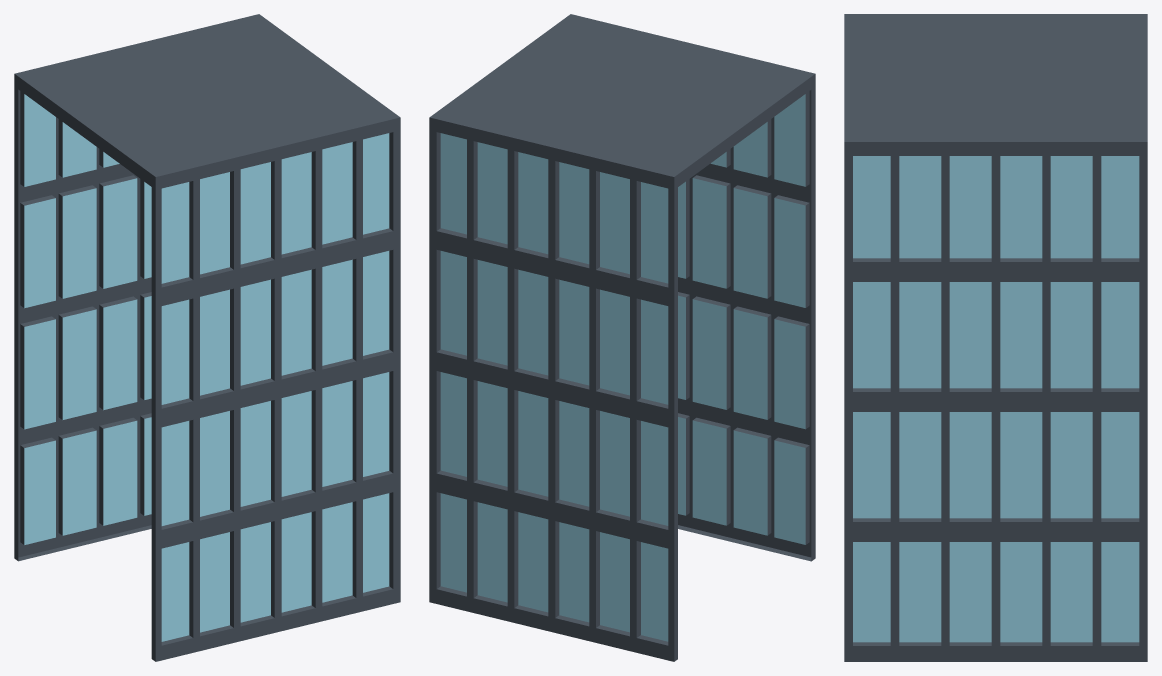
Rendered from office L.fbx.
3 views of the same model, side by side, from view 1: azimuth 30°, elevation 25°; view 2: azimuth 150°, elevation 25°; view 3: azimuth 270°, elevation 25° (orthographic). The views are drawn at different scales.
Visible parts, largest first — view 1: office L; view 2: office L; view 3: office L.
Boxes of the visible parts, x1=… form: office L: x1=14, y1=14, x2=400, y2=661; office L: x1=429, y1=14, x2=815, y2=661; office L: x1=844, y1=14, x2=1147, y2=661.
Bounding box in the file's own units: 530 × 1004 × 530.
